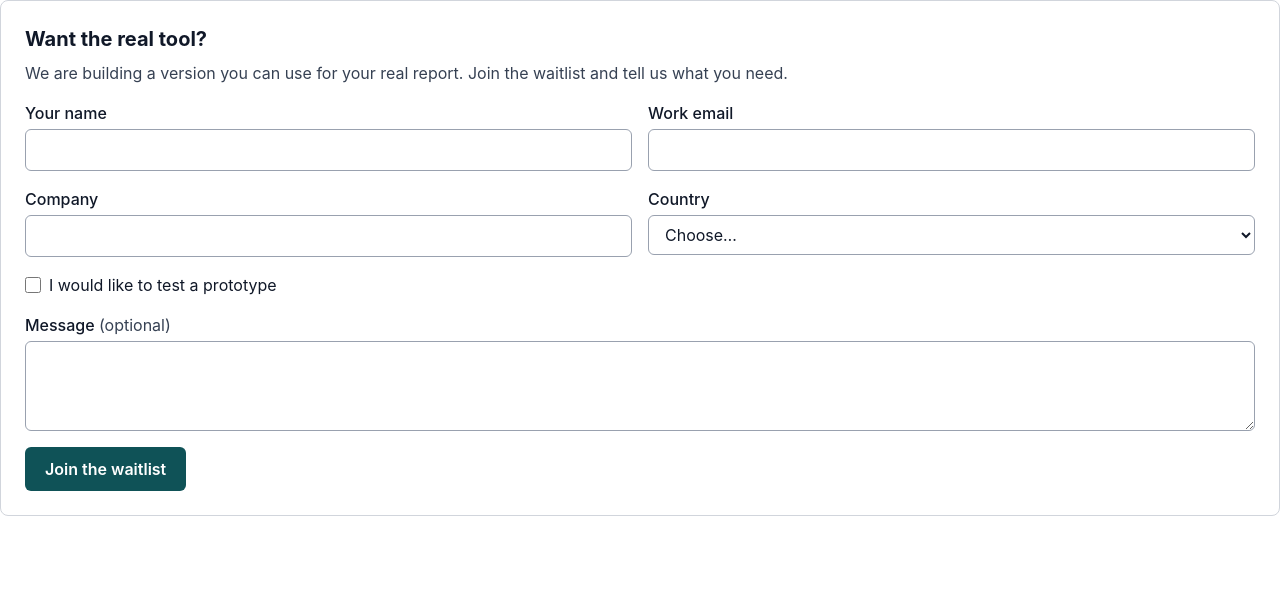
WaitlistForm › shows an error when sending fails
In the field labelled "Your name": (328, 150) 25,129 -> 632,171, type "Test Person"
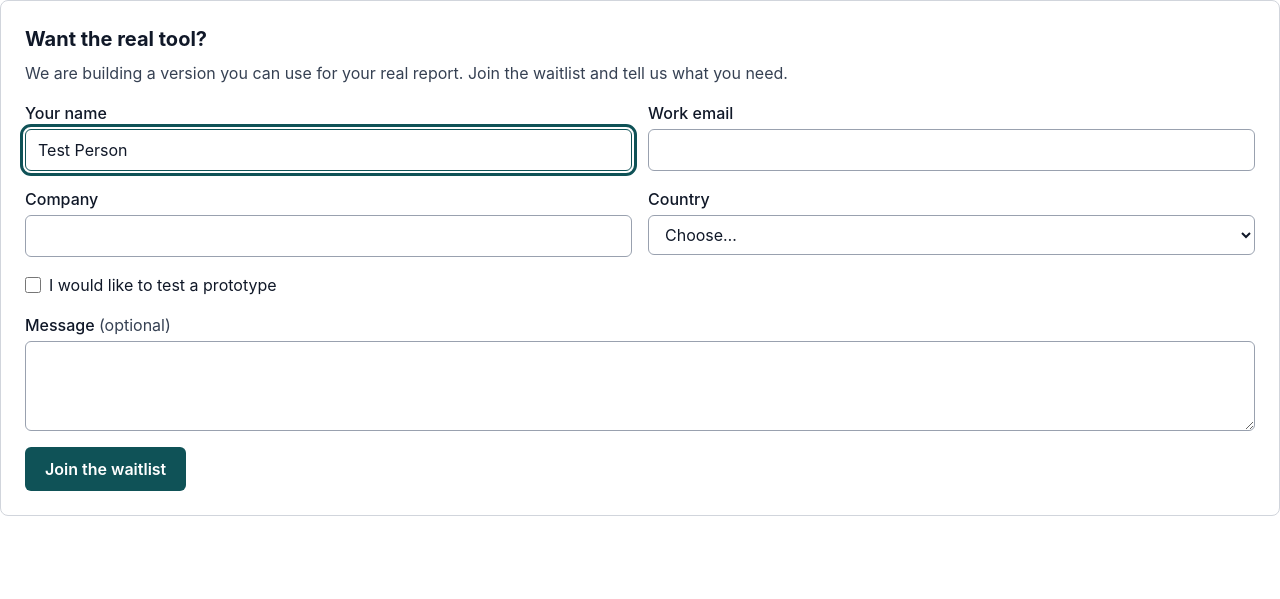
In the field labelled "Work email": (952, 150) 648,129 -> 1255,171, type "test@example.com"
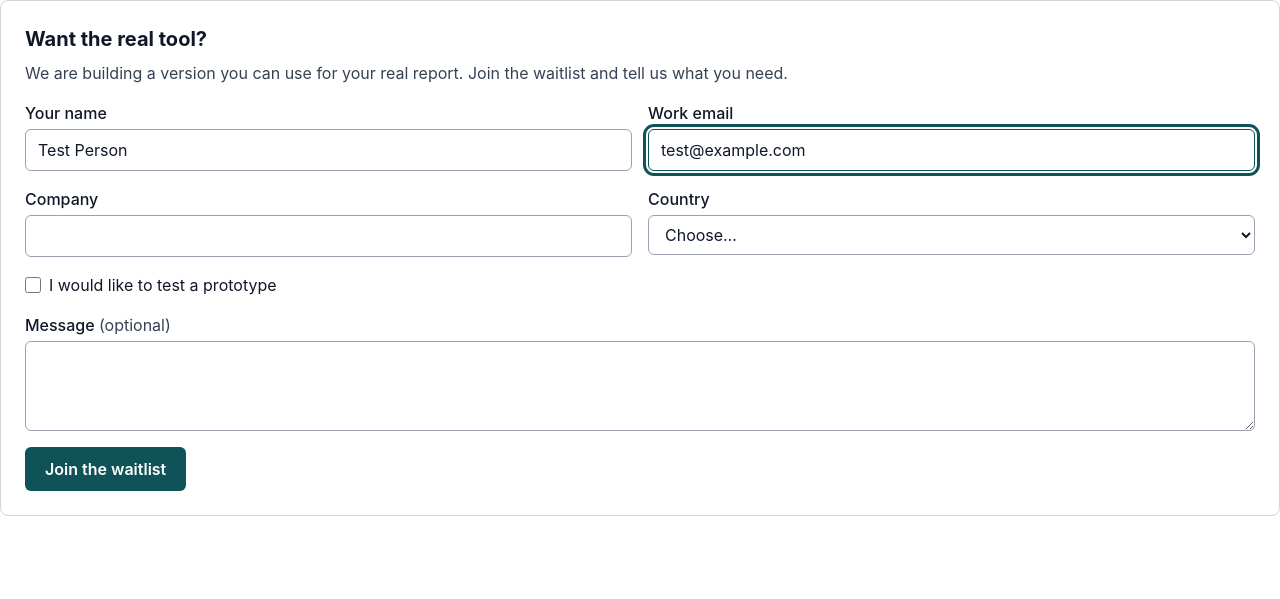
In the field labelled "Company": (328, 236) 25,215 -> 632,257, type "Example Coatings Ltd"
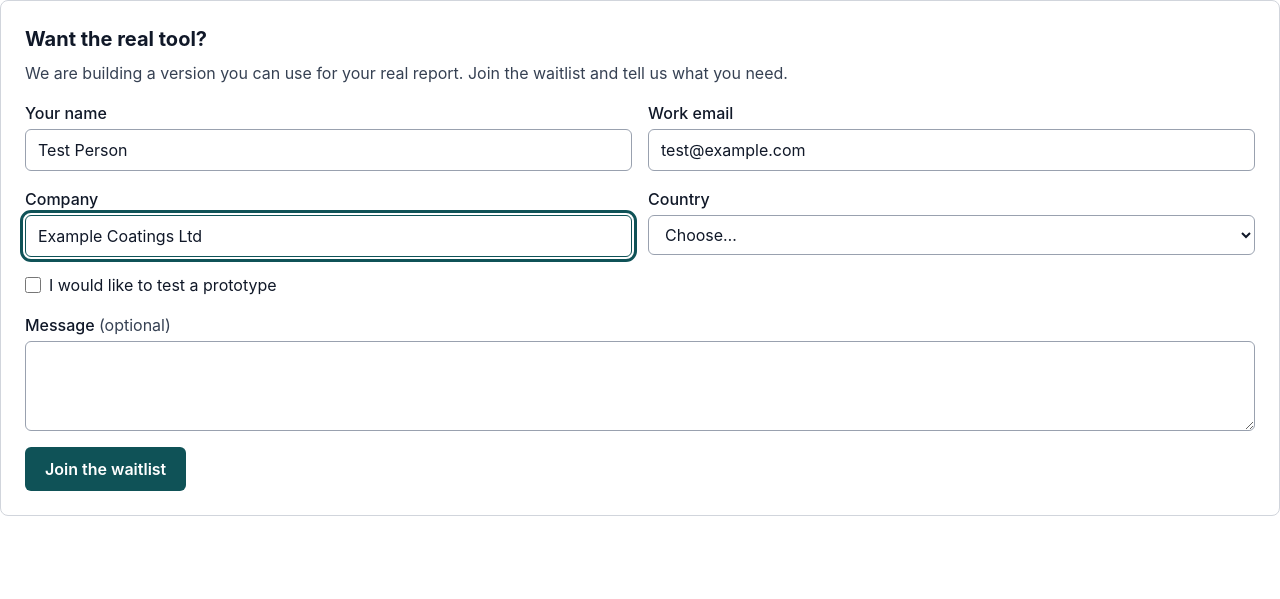
Select "Austria" in the dropdown labelled "Country": (952, 235) 648,215 -> 1255,255
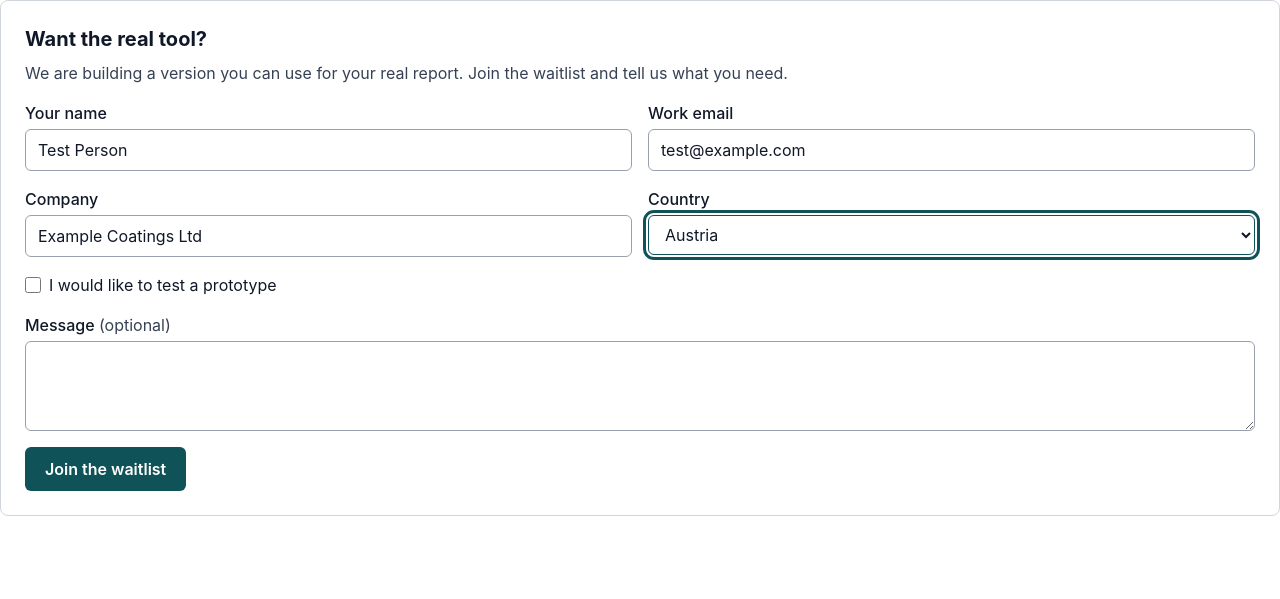
Click the button "Join the waitlist": (106, 469) 25,447 -> 186,491
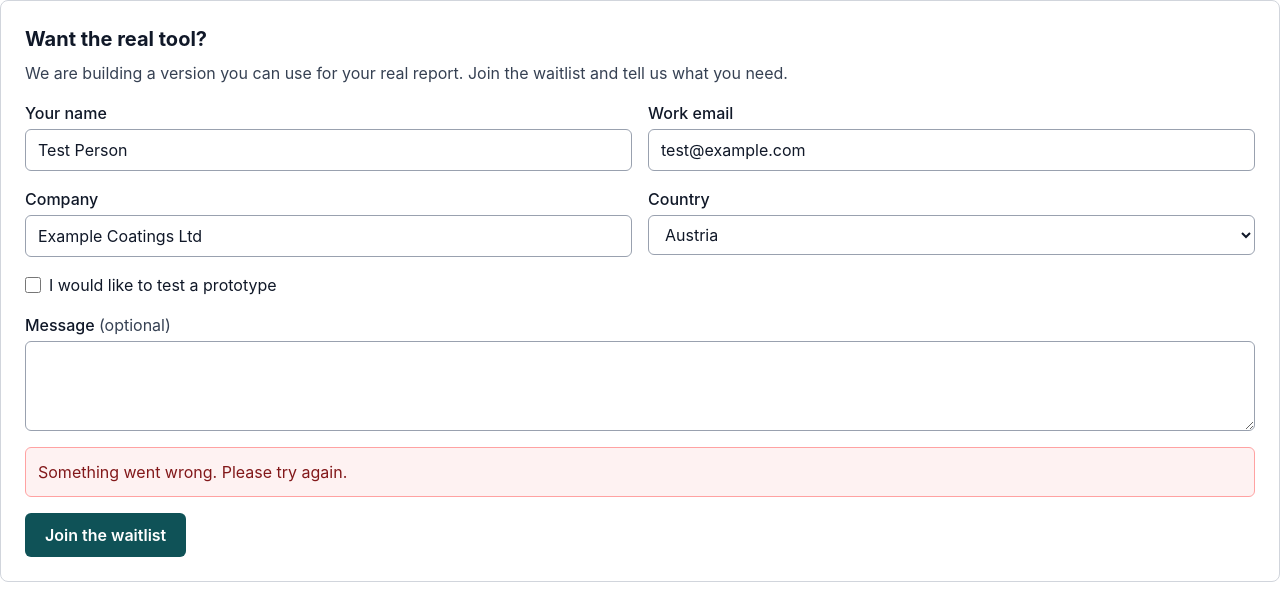
Check: the text "Something went wrong. Please try again." is shown, box 25,447 -> 1255,497
